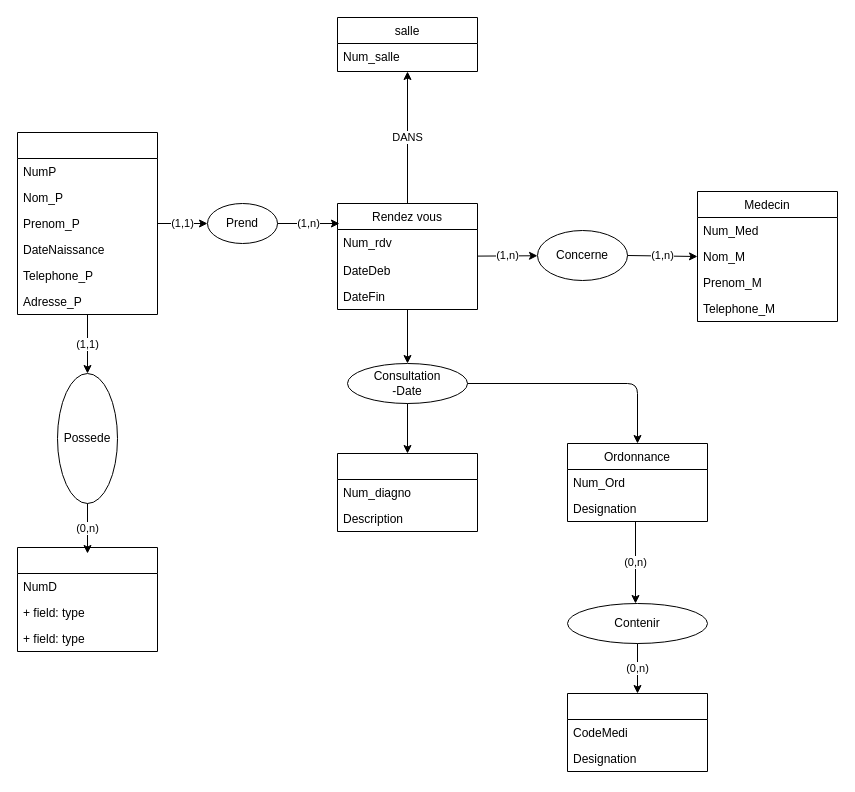
This 855x792 diagram has some shape labels left out. The box of each missing label's shape, as (x1, y1, x2, y2) in pixels:
Diagnostic: (336, 452, 478, 532)
Dossier: (16, 546, 158, 652)
Medicament: (566, 692, 708, 772)
Patient: (16, 132, 158, 314)
